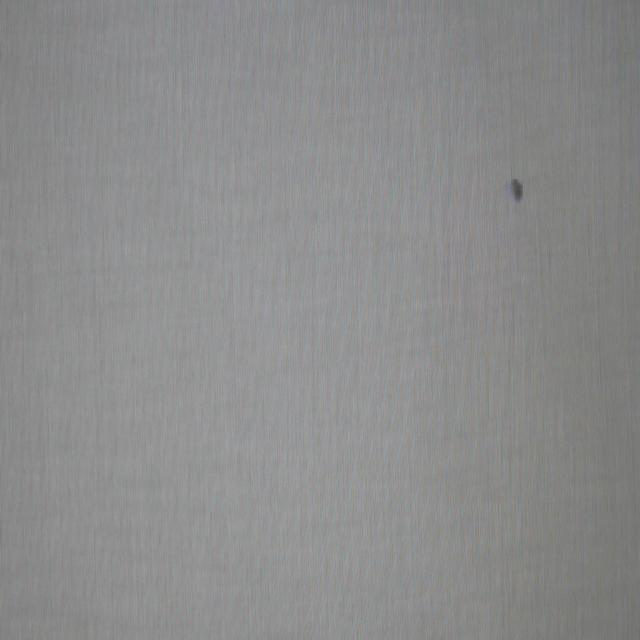dirty: (508, 180, 523, 203)
